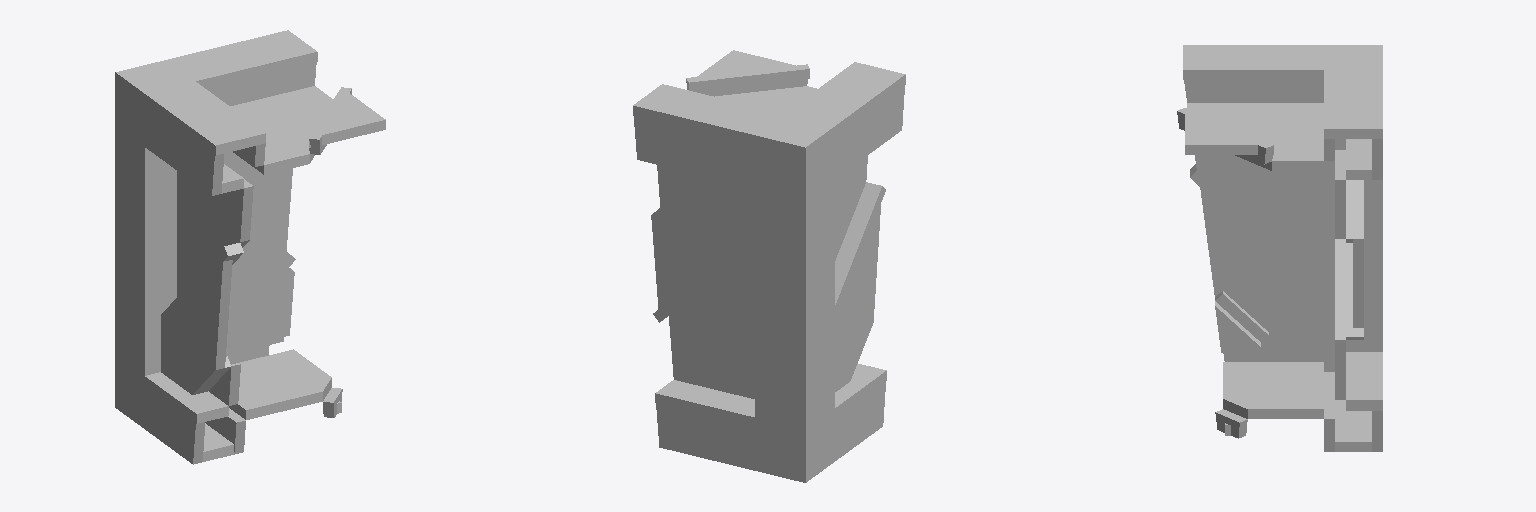
File: break_pieces02.obj
3 views of the same model, side by side, from view 1: azimuth 30°, elevation 25°; view 2: azimuth 150°, elevation 25°; view 3: azimuth 270°, elevation 25° (orthographic).
Parts seen in each view (by area): view 1: crate.001; view 2: crate.001; view 3: crate.001.
Part boxes in pixels (left/top/right/bottom): crate.001: left=115, top=30, right=385, bottom=464; crate.001: left=633, top=50, right=905, bottom=482; crate.001: left=1177, top=45, right=1382, bottom=451.
Bounding box in the file's own units: 0.2779 × 0.5 × 0.2781.